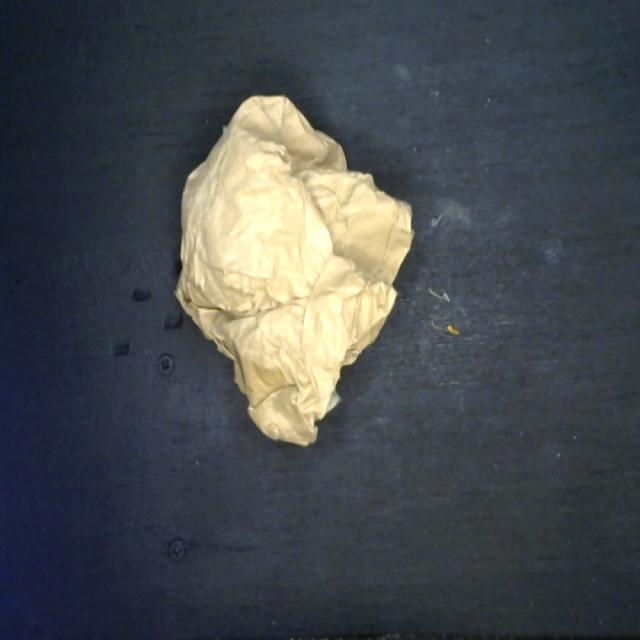biodegradable: (172, 89, 420, 452)
